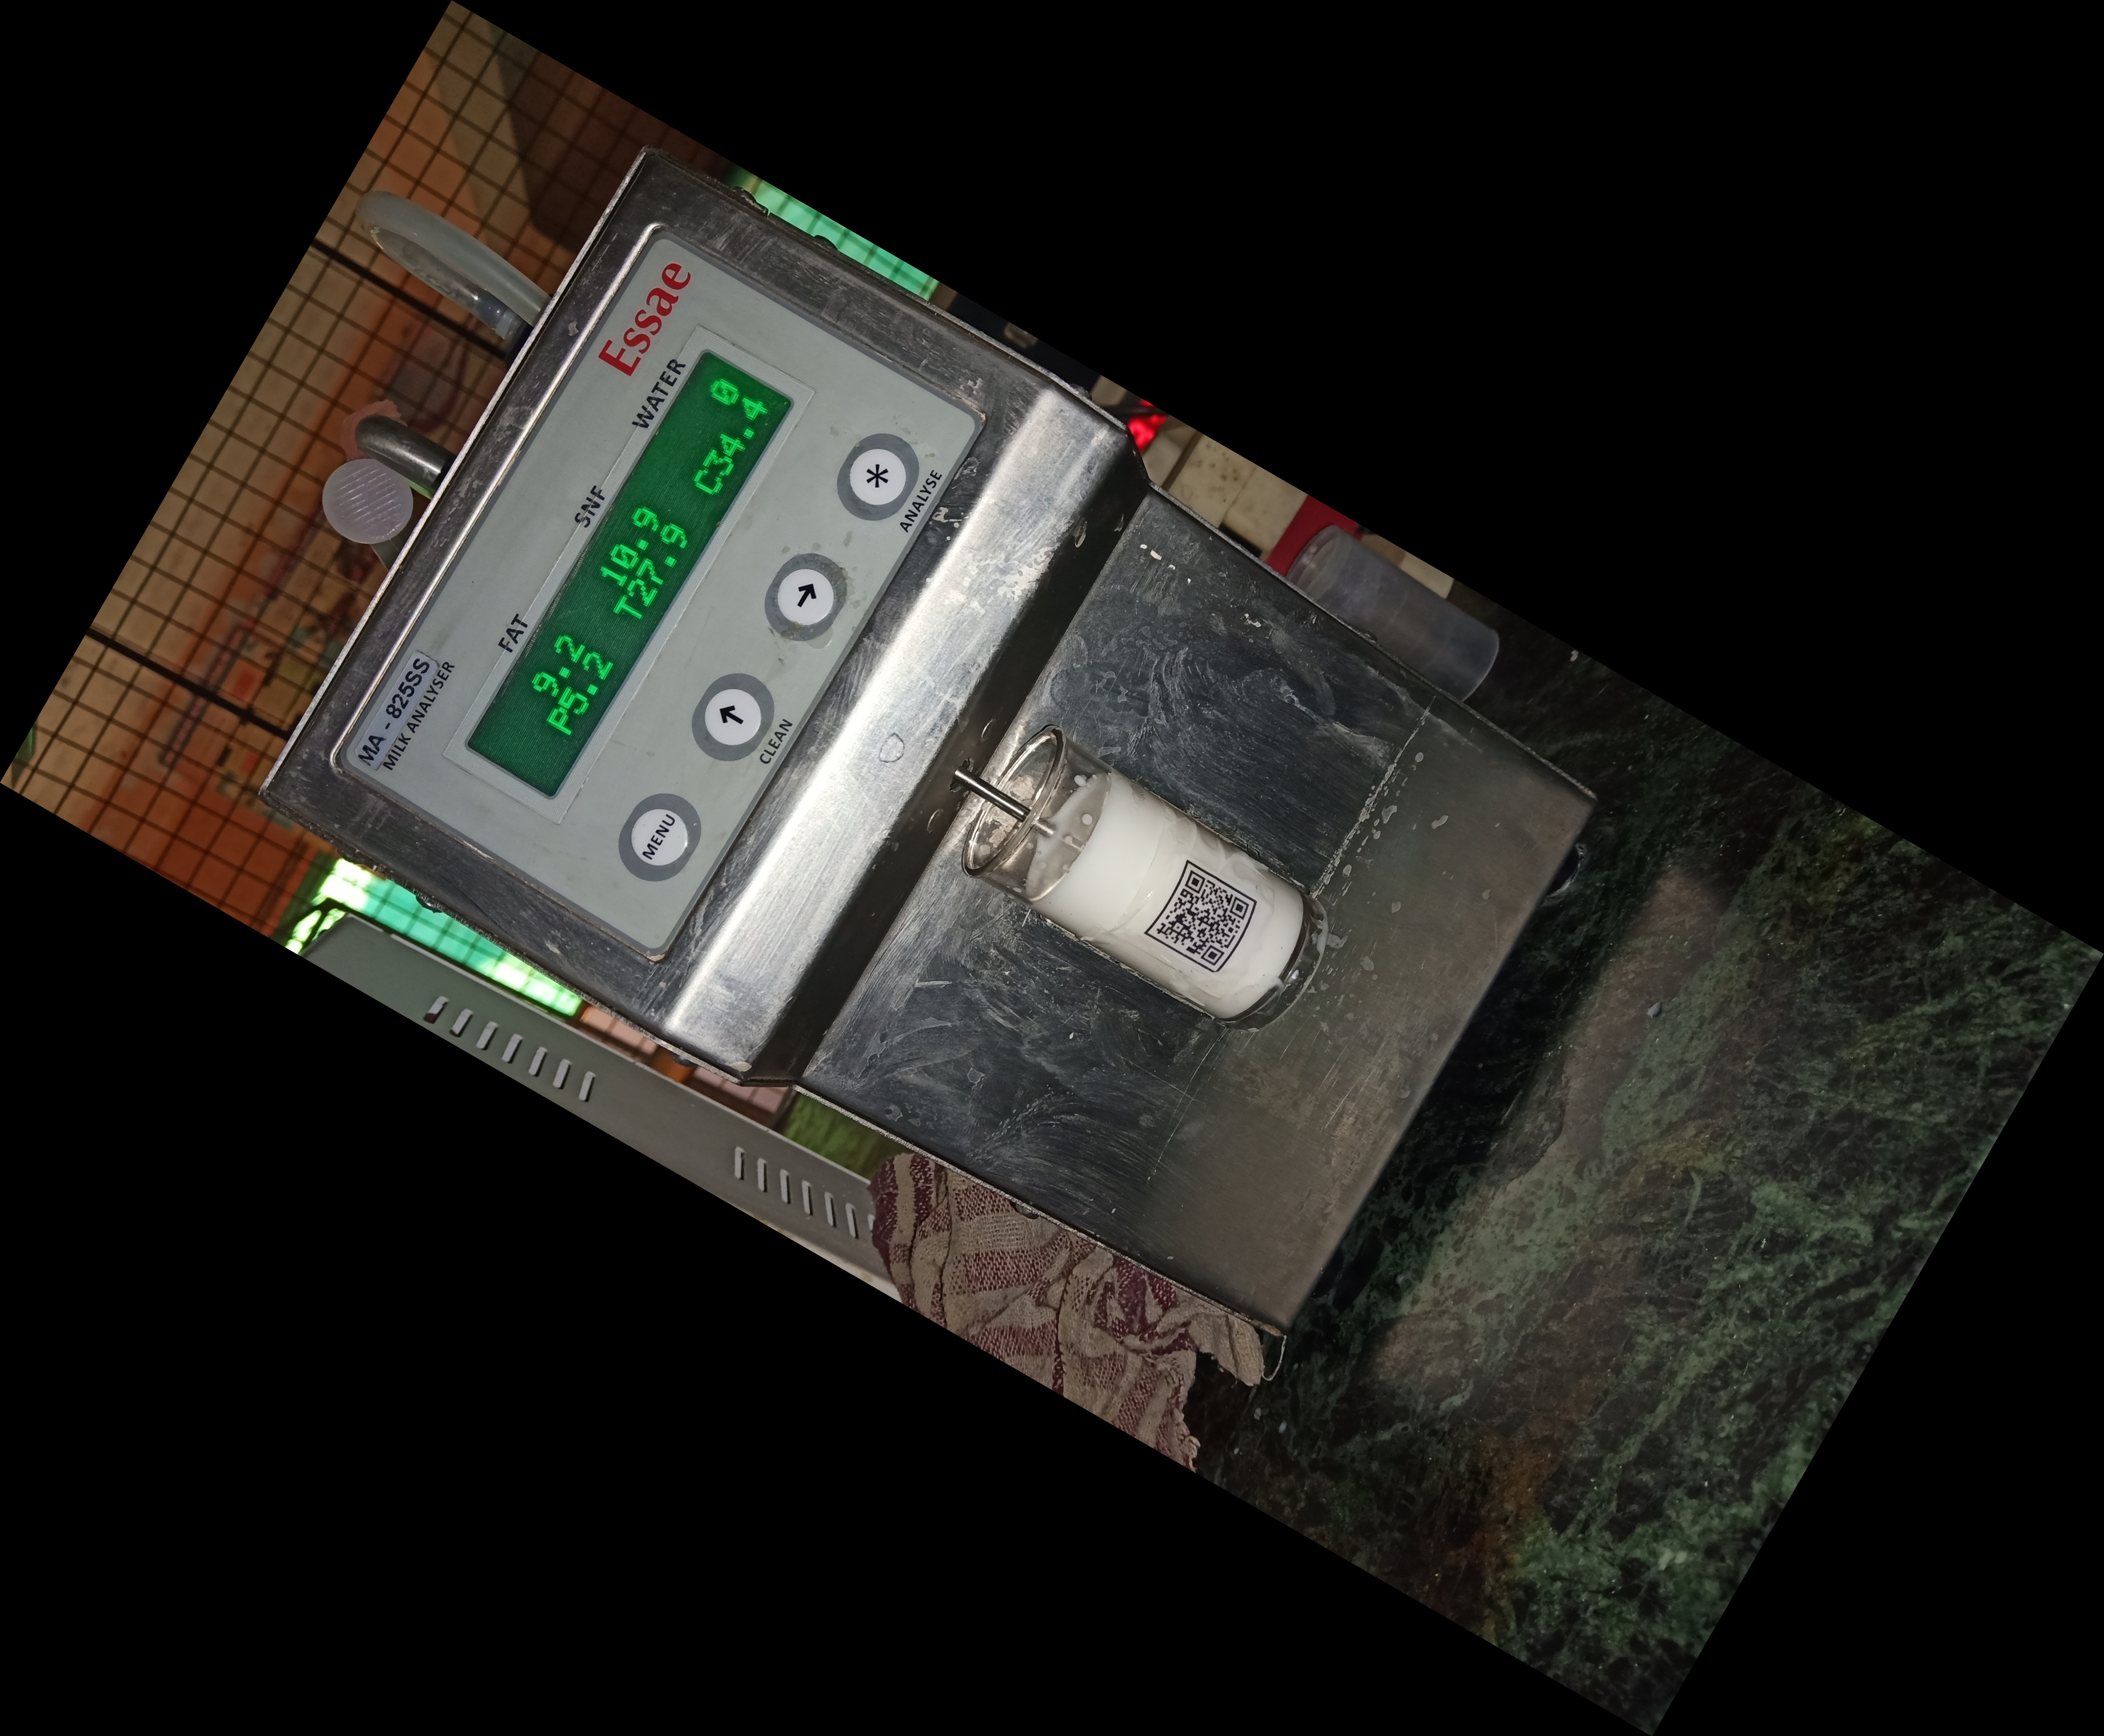lcd: (461, 321, 825, 816)
qr: (1136, 858, 1265, 975)
